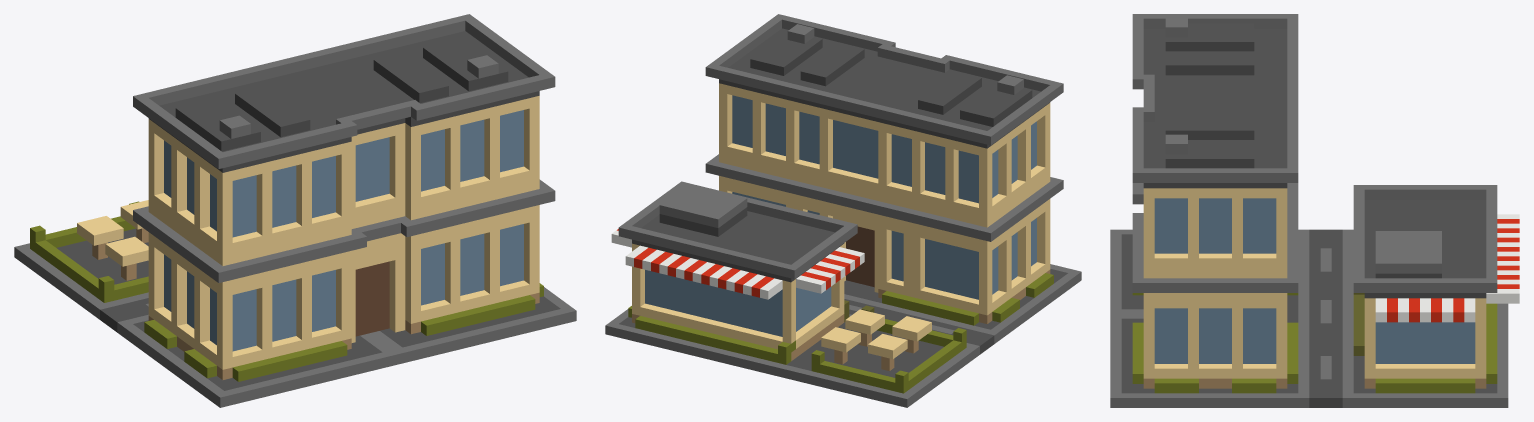
3 views of the same model, side by side, from view 1: azimuth 30°, elevation 25°; view 2: azimuth 150°, elevation 25°; view 3: azimuth 270°, elevation 25° (orthographic). The views are drawn at different scales.
Parts seen in each view (by area): view 1: b_36_01; view 2: b_36_01; view 3: b_36_01.
Boxes of the visible parts, x1,y1,x2,y2 form: b_36_01: (14, 14, 576, 407); b_36_01: (605, 14, 1081, 407); b_36_01: (1110, 14, 1519, 407).
Size of the model in its own units: 37 by 24 by 37.
